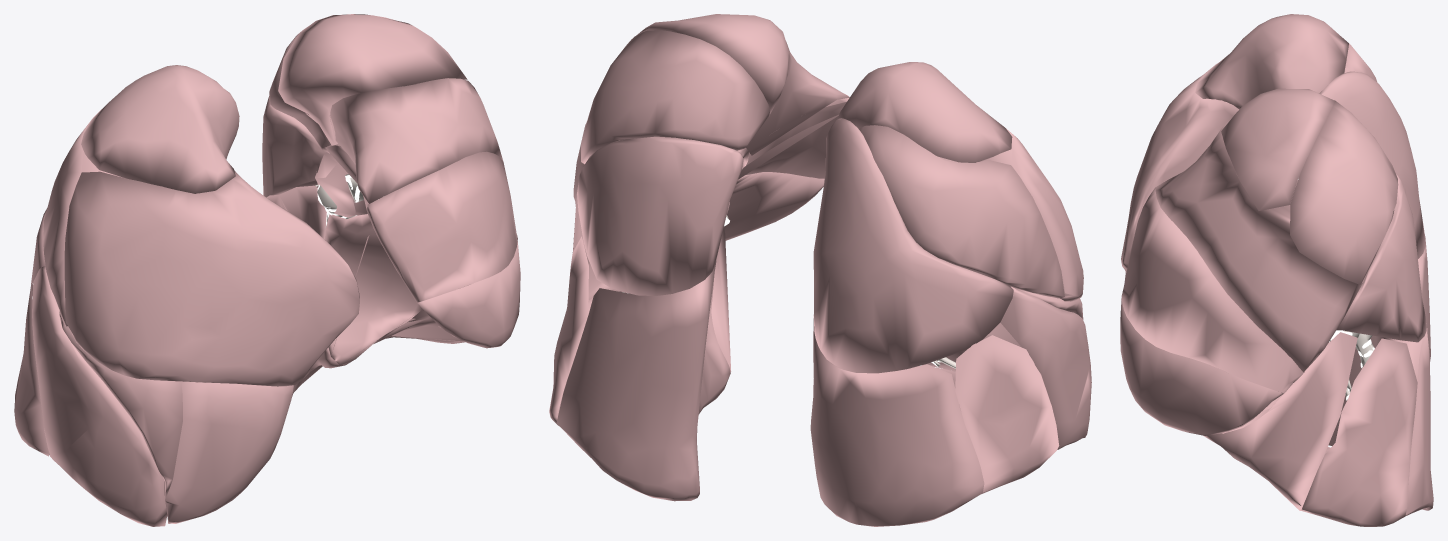
Rendered from 3d-vh-f-lung-20.glb.
The picture shows the model from 3 angles, left to right: view 1: azimuth 30°, elevation 25°; view 2: azimuth 150°, elevation 25°; view 3: azimuth 270°, elevation 25°; orthographic projection. The views are drawn at different scales.
Parts seen in each view (by area): view 1: VH_F_right_anterior_bronchopulmonary_segm, VH_F_right_anterior_basal_bronchopulmonary_segment, VH_F_lingula_superior_bronchopulmonary_segment, VH_F_right_apical_bronchopulmonary_segment, VH_F_left_anterior_bronchopulmonary_segment, VH_F_left_apical_bronchopulmonary_segment, VH_F_right_medial_bronchopulmonary_segment, VH_F_left_medial_basal_bronchopulmonary_segment, VH_F_lingula_inferior_bronchopulmonary_segment, VH_F_right_lateral_bronchopulmonary_segmennt, VH_F_left_superior_bronchopulmonary_segment, VH_F_right_posterior_bronchopulmonary_segment (+5 smaller); view 2: VH_F_right_superior_bronchopulmonary_segment, VH_F_left_posterior_basal_bronchopulmonary_segment, VH_F_right_posterior_basal_bronchopulmonary_segment, VH_F_left_superior_bronchopulmonary_segment, VH_F_right_posterior_bronchopulmonary_segment, VH_F_left_posterior_bronchopulmonary_segment, VH_F_right_lateral_basal_bronchopulmonary_segment, VH_F_right_apical_bronchopulmonary_segment, VH_F_right_anterior_basal_bronchopulmonary_segment, VH_F_left_apical_bronchopulmonary_segment, VH_F_lingula_inferior_bronchopulmonary_segment, VH_F_right_anterior_bronchopulmonary_segm (+5 smaller); view 3: VH_F_left_anterior_bronchopulmonary_segment, VH_F_lingula_superior_bronchopulmonary_segment, VH_F_left_lateral_basal_bronchopulmonary_segment, VH_F_left_posterior_bronchopulmonary_segment, VH_F_left_anterior_basal_bronchopulmonary_segment, VH_F_lingula_inferior_bronchopulmonary_segment, VH_F_right_apical_bronchopulmonary_segment, VH_F_left_apical_bronchopulmonary_segment, VH_F_left_superior_bronchopulmonary_segment, VH_F_right_anterior_bronchopulmonary_segm, VH_F_right_superior_bronchopulmonary_segment, VH_F_left_posterior_basal_bronchopulmonary_segment (+2 smaller).
Part boxes in pixels (bbox=[...]): VH_F_right_anterior_bronchopulmonary_segm: bbox=[64, 170, 359, 386]; VH_F_right_anterior_basal_bronchopulmonary_segment: bbox=[32, 266, 167, 526]; VH_F_lingula_superior_bronchopulmonary_segment: bbox=[363, 151, 517, 302]; VH_F_right_apical_bronchopulmonary_segment: bbox=[81, 65, 239, 193]; VH_F_left_anterior_bronchopulmonary_segment: bbox=[329, 78, 503, 203]; VH_F_left_apical_bronchopulmonary_segment: bbox=[278, 14, 467, 145]; VH_F_right_medial_bronchopulmonary_segment: bbox=[164, 381, 293, 523]; VH_F_left_medial_basal_bronchopulmonary_segment: bbox=[325, 214, 423, 365]; VH_F_lingula_inferior_bronchopulmonary_segment: bbox=[417, 241, 520, 348]; VH_F_right_lateral_bronchopulmonary_segmennt: bbox=[59, 311, 182, 499]; VH_F_left_superior_bronchopulmonary_segment: bbox=[262, 96, 340, 197]; VH_F_right_posterior_bronchopulmonary_segment: bbox=[43, 109, 123, 326]; VH_F_right_superior_bronchopulmonary_segment: bbox=[813, 118, 1013, 373]; VH_F_left_posterior_basal_bronchopulmonary_segment: bbox=[556, 261, 730, 501]; VH_F_right_posterior_basal_bronchopulmonary_segment: bbox=[810, 318, 984, 526]; VH_F_left_superior_bronchopulmonary_segment: bbox=[577, 136, 743, 295]; VH_F_right_posterior_bronchopulmonary_segment: bbox=[859, 125, 1064, 298]; VH_F_left_posterior_bronchopulmonary_segment: bbox=[581, 30, 769, 164]; VH_F_right_lateral_basal_bronchopulmonary_segment: bbox=[911, 335, 1059, 493]; VH_F_right_apical_bronchopulmonary_segment: bbox=[837, 62, 1012, 162]; VH_F_right_anterior_basal_bronchopulmonary_segment: bbox=[922, 286, 1091, 449]; VH_F_left_apical_bronchopulmonary_segment: bbox=[631, 14, 788, 115]; VH_F_lingula_inferior_bronchopulmonary_segment: bbox=[725, 172, 824, 240]; VH_F_right_anterior_bronchopulmonary_segm: bbox=[979, 126, 1083, 301]; VH_F_left_anterior_bronchopulmonary_segment: bbox=[1155, 126, 1362, 372]; VH_F_lingula_superior_bronchopulmonary_segment: bbox=[1121, 187, 1304, 393]; VH_F_left_lateral_basal_bronchopulmonary_segment: bbox=[1302, 338, 1417, 526]; VH_F_left_posterior_bronchopulmonary_segment: bbox=[1290, 100, 1398, 284]; VH_F_left_anterior_basal_bronchopulmonary_segment: bbox=[1203, 332, 1357, 510]; VH_F_lingula_inferior_bronchopulmonary_segment: bbox=[1120, 298, 1283, 435]; VH_F_right_apical_bronchopulmonary_segment: bbox=[1195, 14, 1348, 109]; VH_F_left_apical_bronchopulmonary_segment: bbox=[1221, 88, 1334, 210]; VH_F_left_superior_bronchopulmonary_segment: bbox=[1336, 174, 1426, 342]; VH_F_right_anterior_bronchopulmonary_segm: bbox=[1121, 63, 1239, 272]; VH_F_right_superior_bronchopulmonary_segment: bbox=[1319, 71, 1425, 258]; VH_F_left_posterior_basal_bronchopulmonary_segment: bbox=[1328, 328, 1433, 516].
Size of the model in its own units: 0.2512 by 0.2231 by 0.1526.
